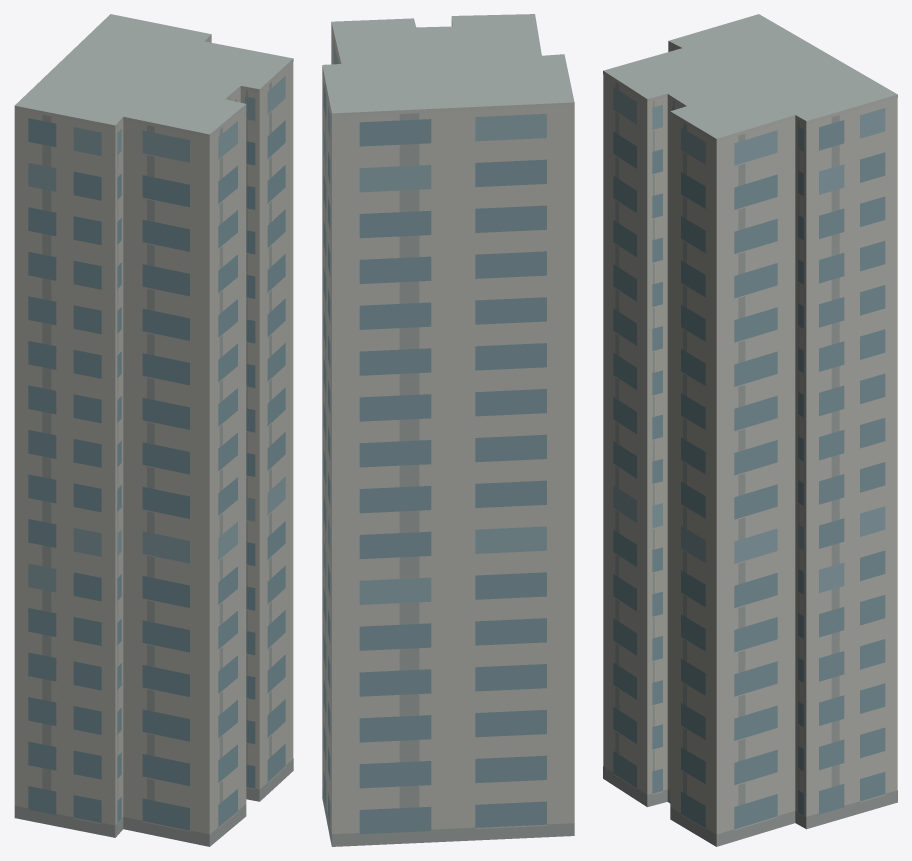
File: survey-upis-32837227.glb
3 renders of one model, left to right at view 1: azimuth 30°, elevation 25°; view 2: azimuth 150°, elevation 25°; view 3: azimuth 270°, elevation 25°, orthographic. The views are drawn at different scales.
Visible parts, largest first — view 1: survey-upis-32837227.tmp; view 2: survey-upis-32837227.tmp; view 3: survey-upis-32837227.tmp.
Part boxes in pixels (bbox=[...]): survey-upis-32837227.tmp: bbox=[14, 14, 293, 846]; survey-upis-32837227.tmp: bbox=[322, 14, 574, 846]; survey-upis-32837227.tmp: bbox=[603, 14, 897, 846].
Size of the model in its own units: 18.47 by 48.8 by 18.41.
